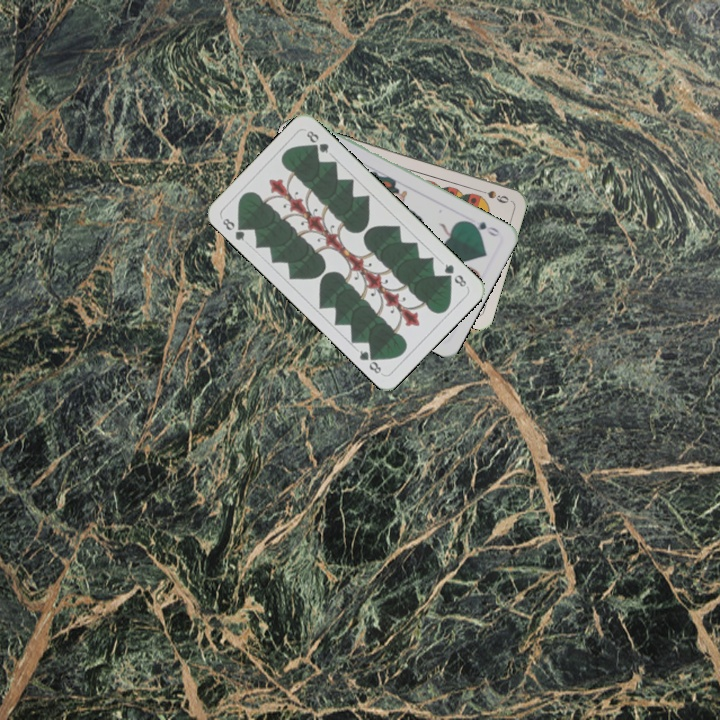G8: (218, 214, 250, 243), (440, 260, 470, 290)
GO: (464, 217, 502, 239)
S9: (472, 185, 511, 206)
